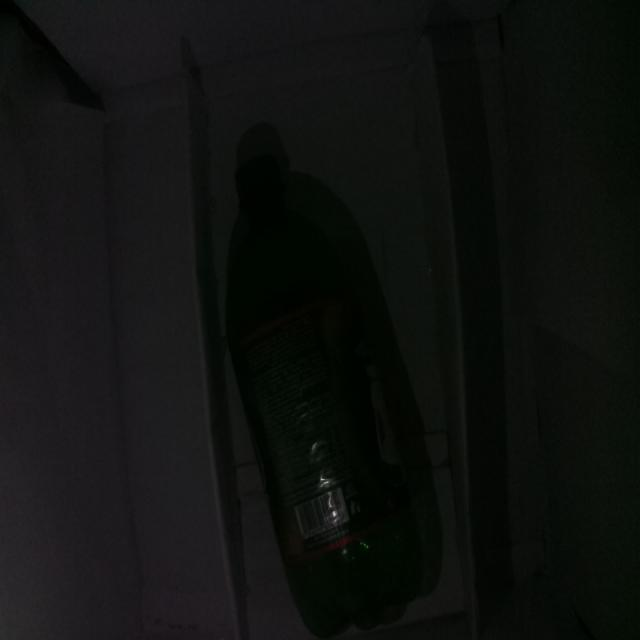BIODEGRADABLE: (201, 138, 447, 640)
